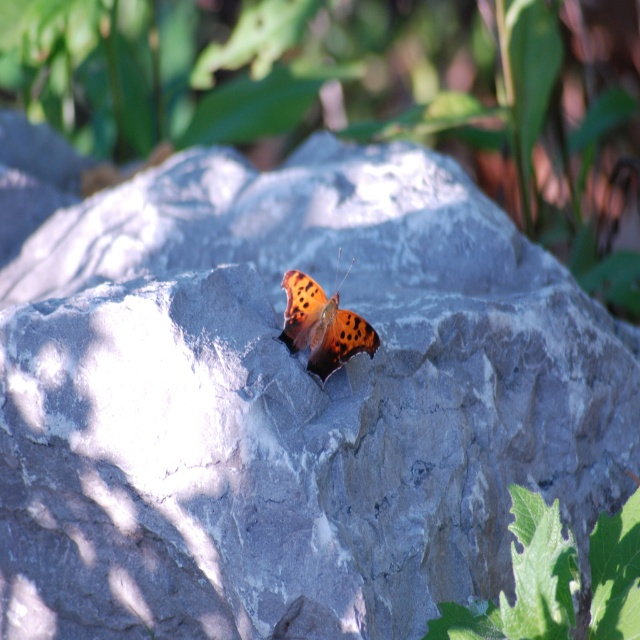Butterfly: (274, 260, 386, 393)
